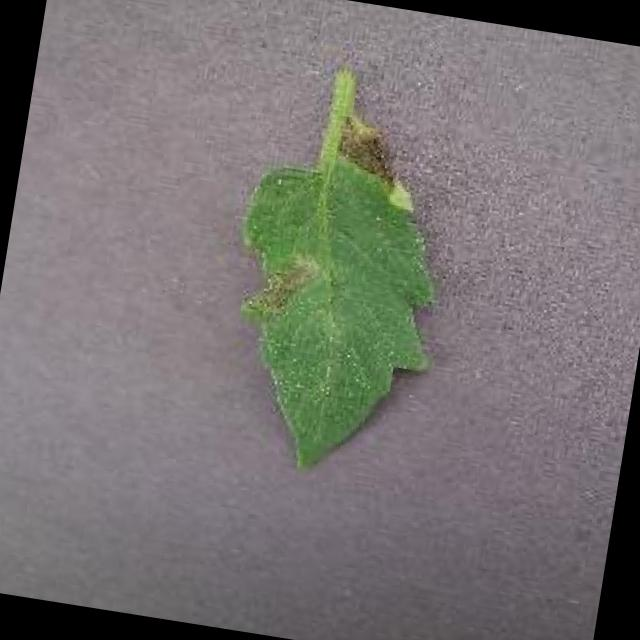Tomato_Late_Blight: (324, 90, 412, 200), (235, 250, 332, 336)
